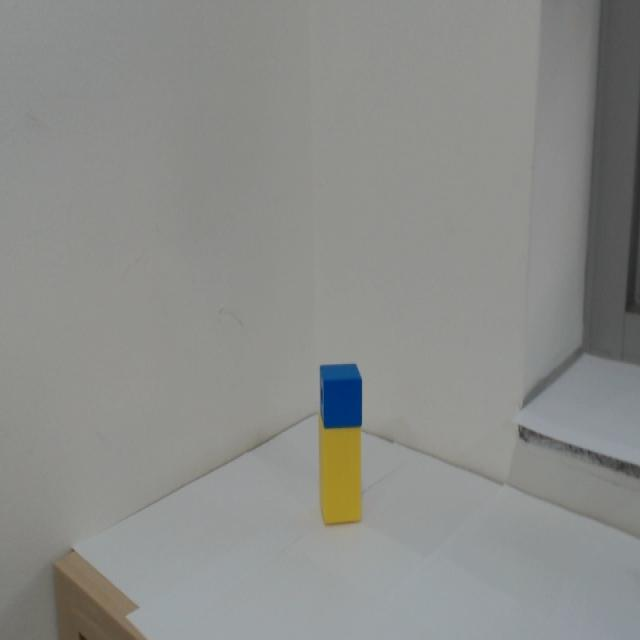cube: (317, 361, 365, 429)
